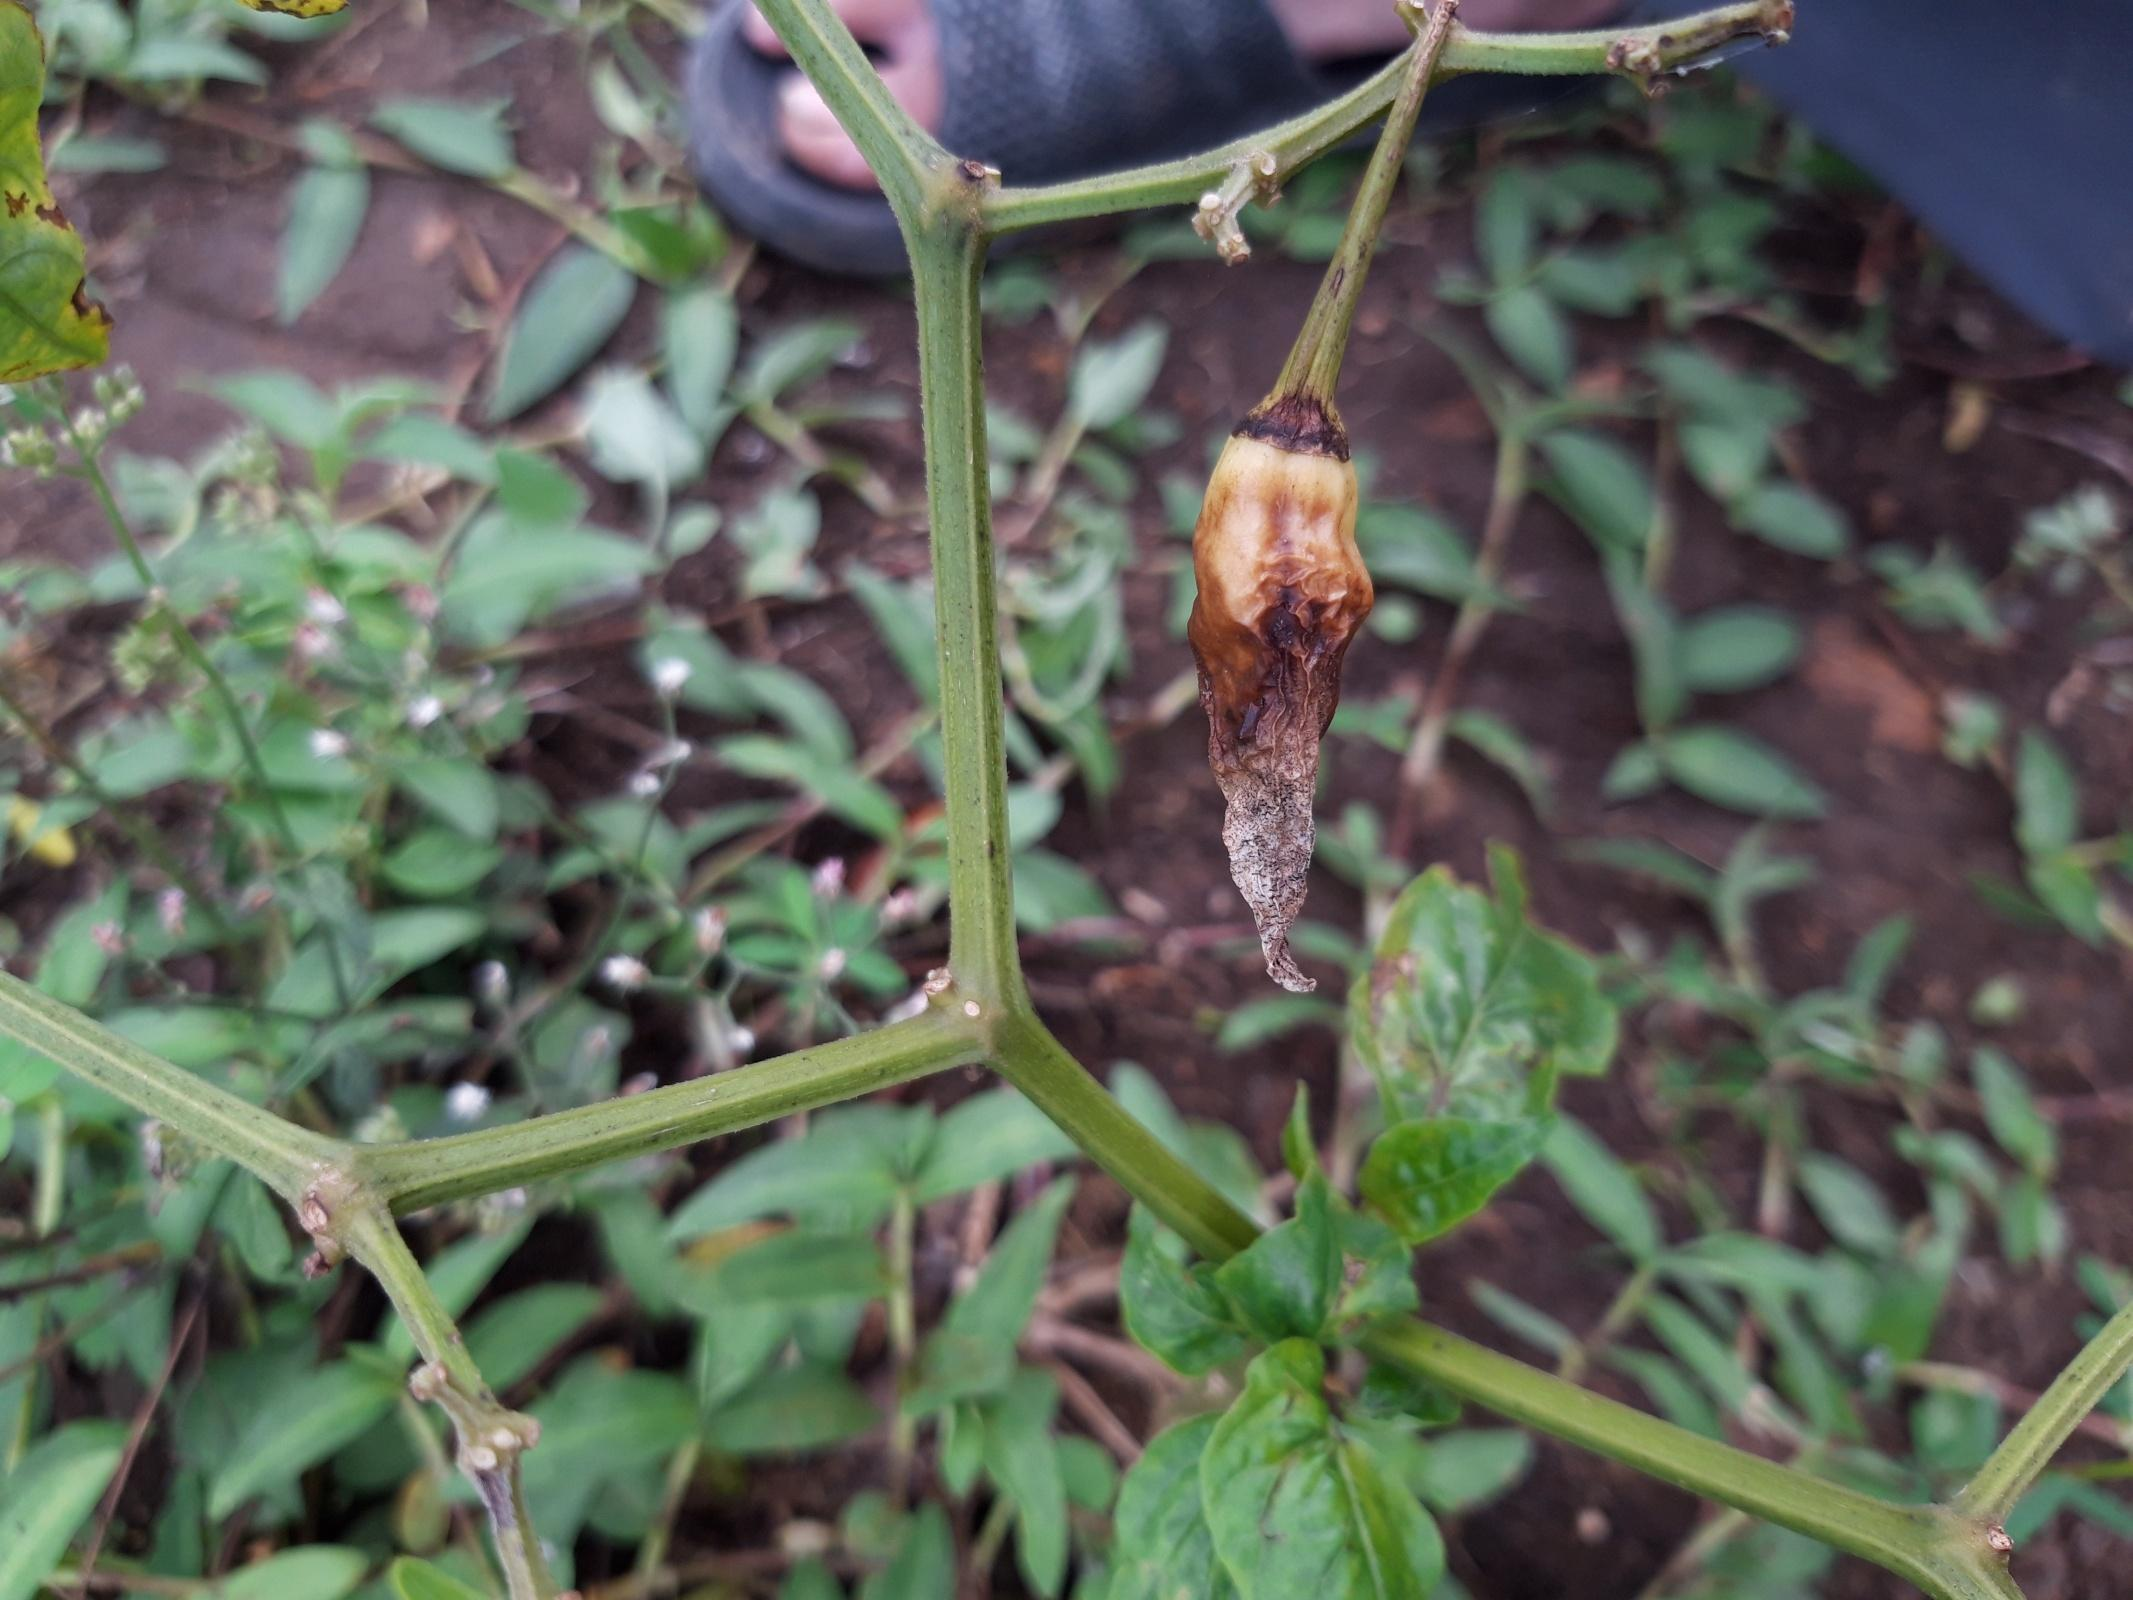antraknosa: (1193, 439, 1370, 990)
